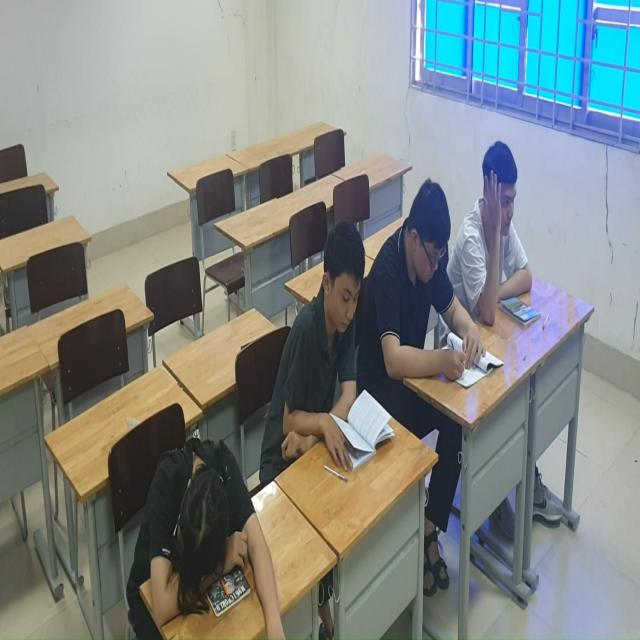raise_hand: (471, 133, 541, 330)
read: (270, 207, 391, 484), (373, 178, 485, 425)
sleep: (124, 439, 295, 640)
